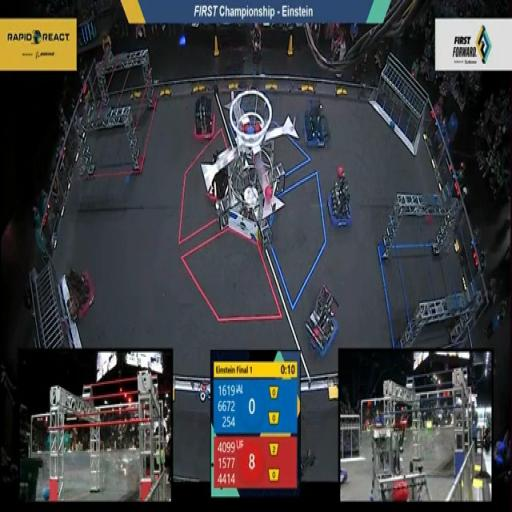robot: (305, 284, 342, 361), (62, 262, 96, 324), (326, 164, 354, 233), (300, 94, 332, 150), (203, 148, 232, 208), (191, 91, 217, 141)
